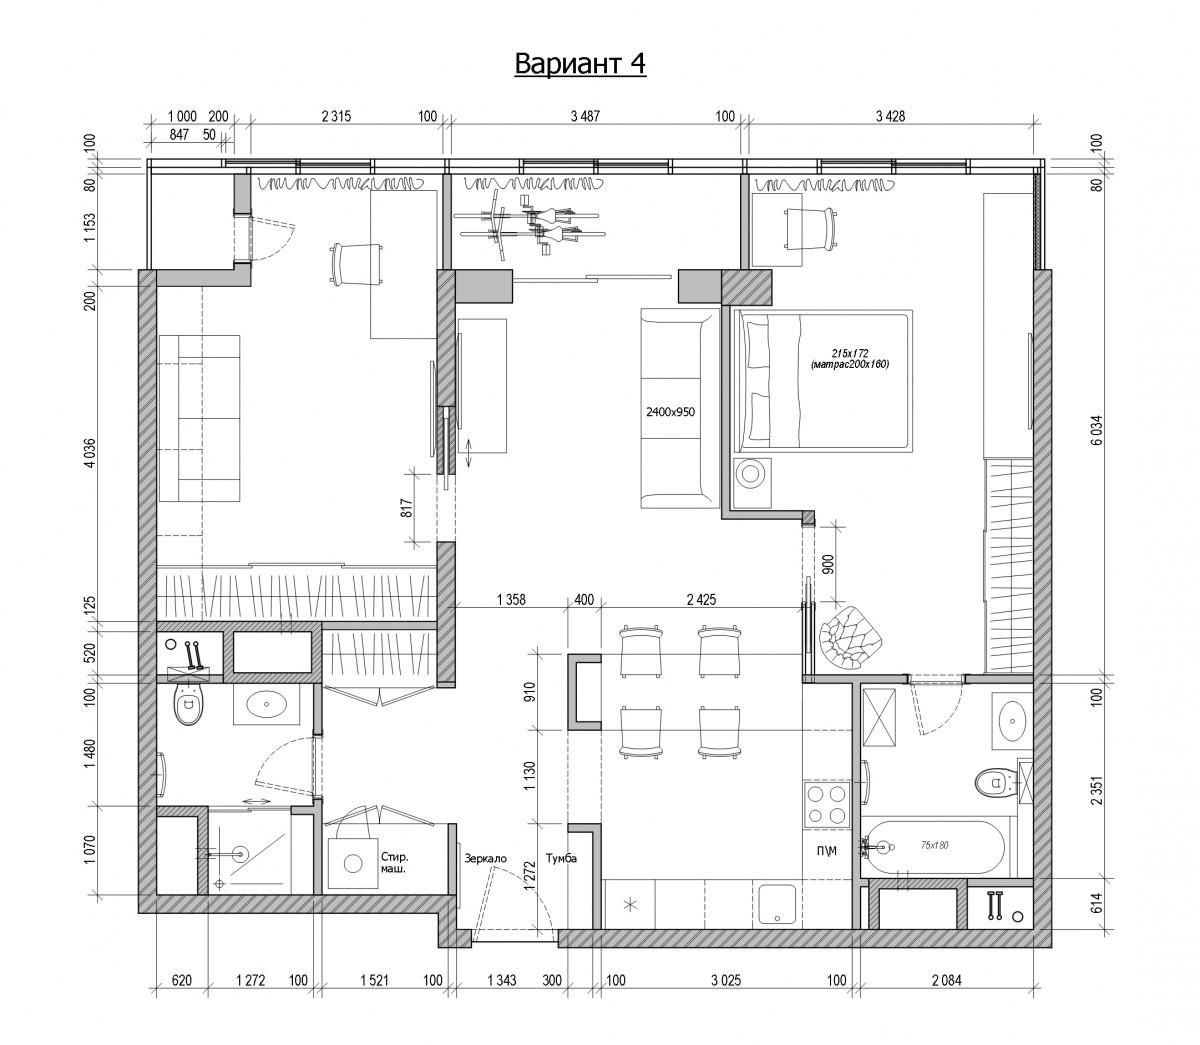balcony: (451, 174, 744, 270), (149, 173, 236, 271)
bathroom: (861, 682, 1034, 880), (156, 682, 314, 897)
bedroom: (730, 174, 1035, 674)
hallway: (453, 607, 594, 931)
home_office: (157, 172, 442, 621)
kitchen: (602, 607, 854, 929)
living_room: (454, 282, 803, 608)
utility_room: (321, 630, 455, 896)
